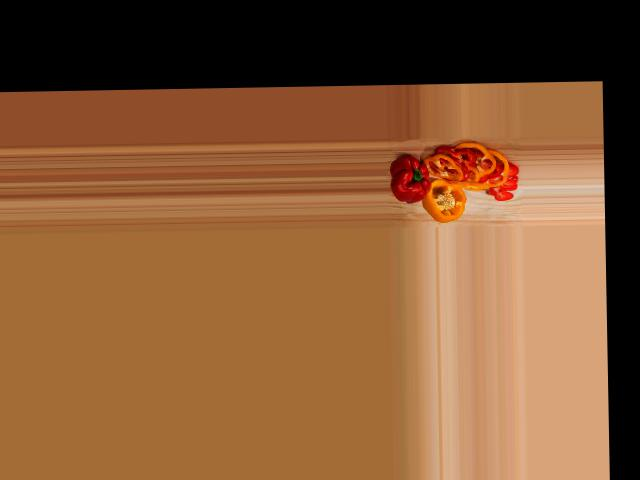bell_pepper: (424, 179, 468, 224)
